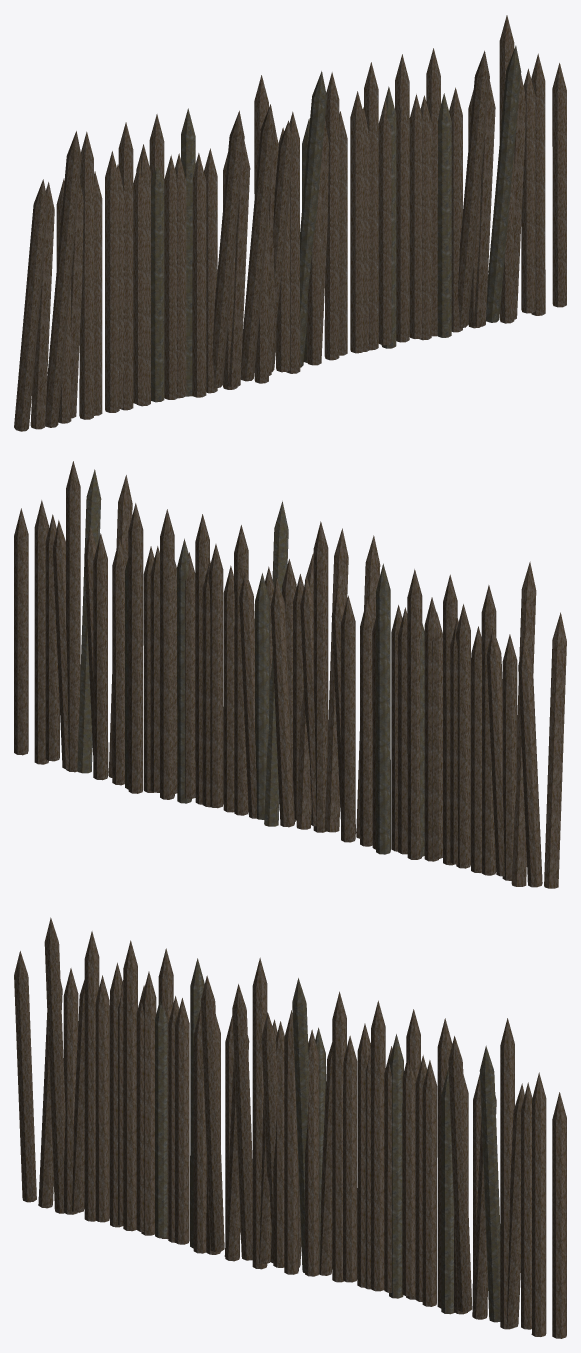
The model's file is empalizada.glb.
3 renders of one model, top to bottom at view 1: azimuth 30°, elevation 25°; view 2: azimuth 150°, elevation 25°; view 3: azimuth 330°, elevation 25°, orthographic.
Visible parts, largest first — view 1: empalizada; view 2: empalizada; view 3: empalizada.
Boxes of the visible parts, <box> form: empalizada: <box>14,15,566,431</box>; empalizada: <box>14,461,566,888</box>; empalizada: <box>14,917,566,1338</box>.
Bounding box in the file's own units: 7.2 × 3.89 × 0.6449.
Materials: 2 (2 with a texture image).
